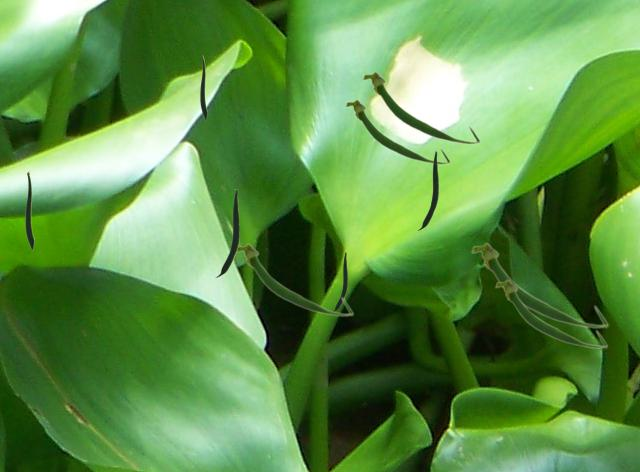french_bean: (470, 242, 608, 328), (361, 71, 480, 144), (237, 243, 353, 316), (494, 278, 607, 348), (344, 98, 450, 164), (216, 189, 238, 276), (418, 151, 437, 229), (334, 252, 346, 310), (25, 171, 33, 249), (200, 55, 206, 119)
